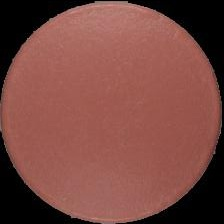55289-747: (0, 0, 224, 224)
